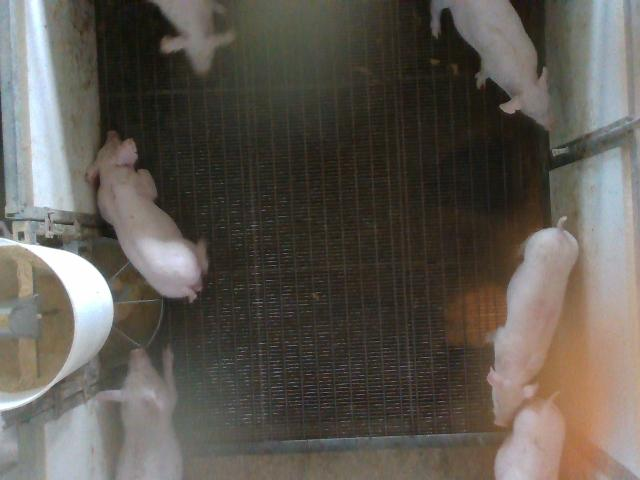pig-4: (488, 218, 579, 426)
